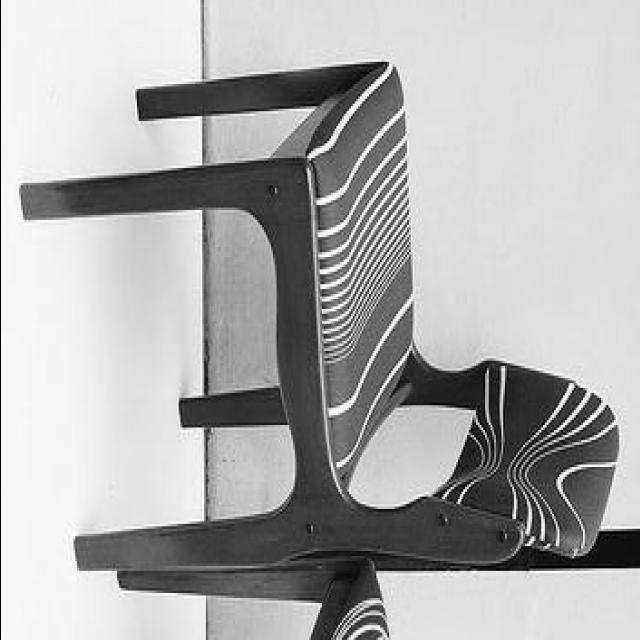chair: (21, 51, 617, 568)
